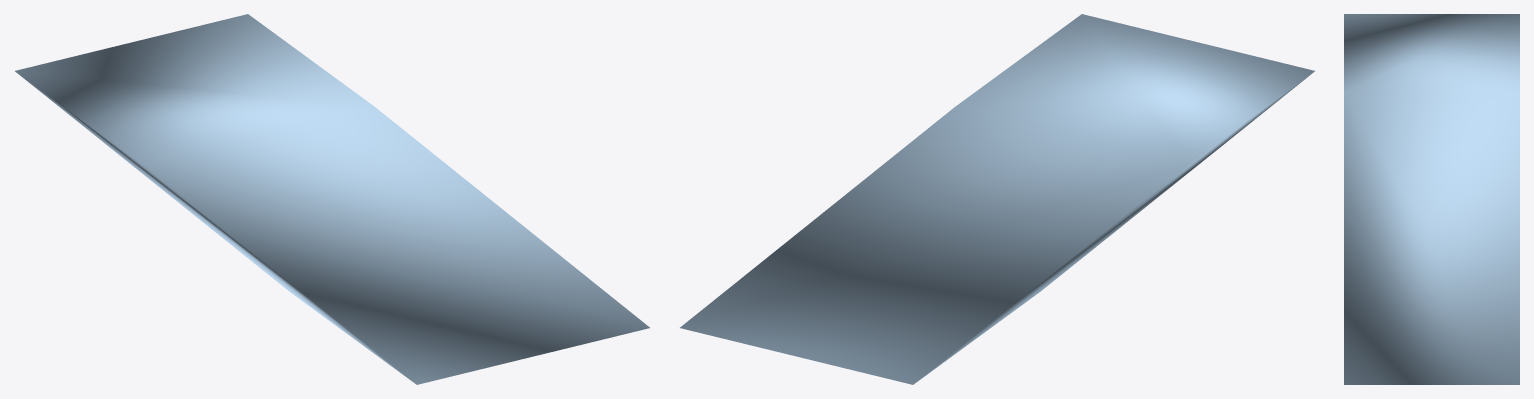
The model's file is labradorite.glb.
3 renders of one model, left to right at view 1: azimuth 30°, elevation 25°; view 2: azimuth 150°, elevation 25°; view 3: azimuth 270°, elevation 25°, orthographic. The views are drawn at different scales.
Parts seen in each view (by area): view 1: labradorite; view 2: labradorite; view 3: labradorite.
Part boxes in pixels (x1=…): labradorite: x1=15, y1=14, x2=649, y2=384; labradorite: x1=680, y1=14, x2=1314, y2=384; labradorite: x1=1344, y1=14, x2=1519, y2=384.
Bounding box in the file's own units: 3.7 × 2 × 1.6.
